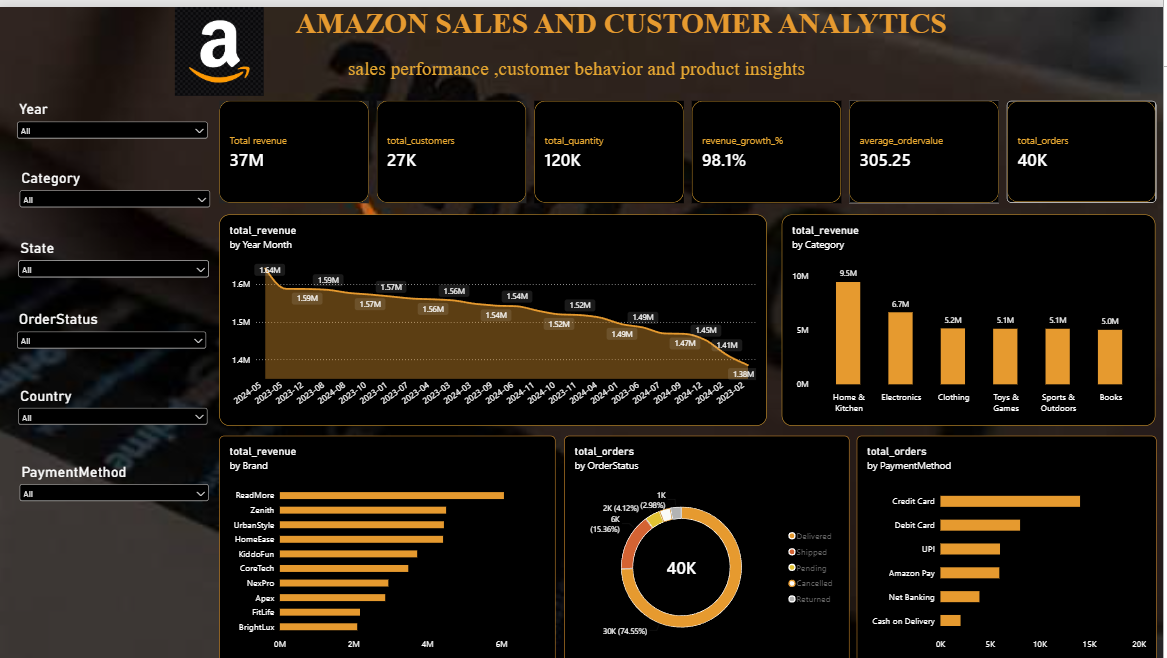

The dashboard page shown, as its layout file describes it:
{"tool":"powerbi","page":{"name":"executive sales overview","canvas":[1920,1080],"ordinal":0},"visuals":[{"type":"textbox","box":[275.8,0,1500.5,98.8],"z":0},{"type":"textbox","box":[576.3,82.3,1103.3,63.8],"z":1000},{"type":"image","box":[284,0,160.5,146.1],"z":2000},{"type":"cardVisual","title":"total revenue","fields":{"Data":["factorders.total_revenue"]},"box":[364.3,154.4,246,168.8],"z":3000},{"type":"cardVisual","fields":{"Data":["factorders.total_customers"]},"box":[623.7,154.4,246,168.8],"z":4000},{"type":"cardVisual","fields":{"Data":["factorders.total_quantity"]},"box":[883,154.4,246,168.8],"z":5000},{"type":"cardVisual","fields":{"Data":["factorders.average_ordervalue"]},"box":[1401.7,154.4,246,168.8],"z":6000},{"type":"cardVisual","fields":{"Data":["factorders.revenue_growth_%"]},"box":[1142.4,154.4,246,168.8],"z":7000},{"type":"cardVisual","fields":{"Data":["factorders.total_orders"]},"box":[1660.6,154.4,246,168],"z":8000},{"type":"lineChart","fields":{"Y":["factorders.total_revenue"],"Category":["DimDate.Year Month"]},"box":[364.3,341.7,901.5,347.9],"z":9000},{"type":"clusteredColumnChart","fields":{"Category":["dimproduct.Category"],"Y":["factorders.total_revenue"]},"box":[1290.6,341.7,615.4,347.9],"z":10000},{"type":"clusteredBarChart","fields":{"Y":["factorders.total_revenue"],"Category":["dimproduct.Brand"]},"box":[364.3,706,553.7,374.6],"z":11000},{"type":"donutChart","fields":{"Y":["factorders.total_orders"],"Category":["factorders.OrderStatus"]},"box":[932.4,706,469.3,374.6],"z":12000},{"type":"clusteredBarChart","fields":{"Y":["factorders.total_orders"],"Category":["factorders.PaymentMethod"]},"box":[1414.1,706,494,374.6],"z":13000},{"type":"slicer","title":"year","fields":{"Values":["DimDate.Year"]},"box":[26.8,154.4,323.2,113.2],"z":14000},{"type":"slicer","fields":{"Values":["dimproduct.Category"]},"box":[30.9,267.6,323.2,86.4],"z":15000},{"type":"slicer","fields":{"Values":["dimcustomer.State"]},"box":[28.8,382.8,323.2,94.7],"z":16000},{"type":"slicer","fields":{"Values":["factorders.OrderStatus"]},"box":[26.8,500.2,321.1,125.6],"z":17000},{"type":"slicer","fields":{"Values":["dimcustomer.Country"]},"box":[28.8,625.7,321.1,125.6],"z":18000},{"type":"slicer","fields":{"Values":["factorders.PaymentMethod"]},"box":[30.9,751.3,321.1,125.6],"z":19000}]}

Visuals, with their boxes in screenshot pixels (x1, y1, x2, y2), scaled from the page's 1920x1080 canvas onto the 1167x658 screenshot:
textbox: select_region(168, 0, 1080, 60)
textbox: select_region(350, 50, 1021, 89)
image: select_region(173, 0, 270, 89)
"total revenue" cardVisual: select_region(221, 94, 371, 197)
cardVisual - factorders.total_customers: select_region(379, 94, 529, 197)
cardVisual - factorders.total_quantity: select_region(537, 94, 686, 197)
cardVisual - factorders.average_ordervalue: select_region(852, 94, 1001, 197)
cardVisual - factorders.revenue_growth_%: select_region(694, 94, 844, 197)
cardVisual - factorders.total_orders: select_region(1009, 94, 1159, 196)
lineChart - factorders.total_revenue x DimDate.Year Month: select_region(221, 208, 769, 420)
clusteredColumnChart - dimproduct.Category x factorders.total_revenue: select_region(784, 208, 1158, 420)
clusteredBarChart - factorders.total_revenue x dimproduct.Brand: select_region(221, 430, 558, 657)
donutChart - factorders.total_orders x factorders.OrderStatus: select_region(567, 430, 852, 657)
clusteredBarChart - factorders.total_orders x factorders.PaymentMethod: select_region(860, 430, 1160, 657)
"year" slicer: select_region(16, 94, 213, 163)
slicer - dimproduct.Category: select_region(19, 163, 215, 216)
slicer - dimcustomer.State: select_region(18, 233, 214, 291)
slicer - factorders.OrderStatus: select_region(16, 305, 211, 381)
slicer - dimcustomer.Country: select_region(18, 381, 213, 458)
slicer - factorders.PaymentMethod: select_region(19, 458, 214, 534)
